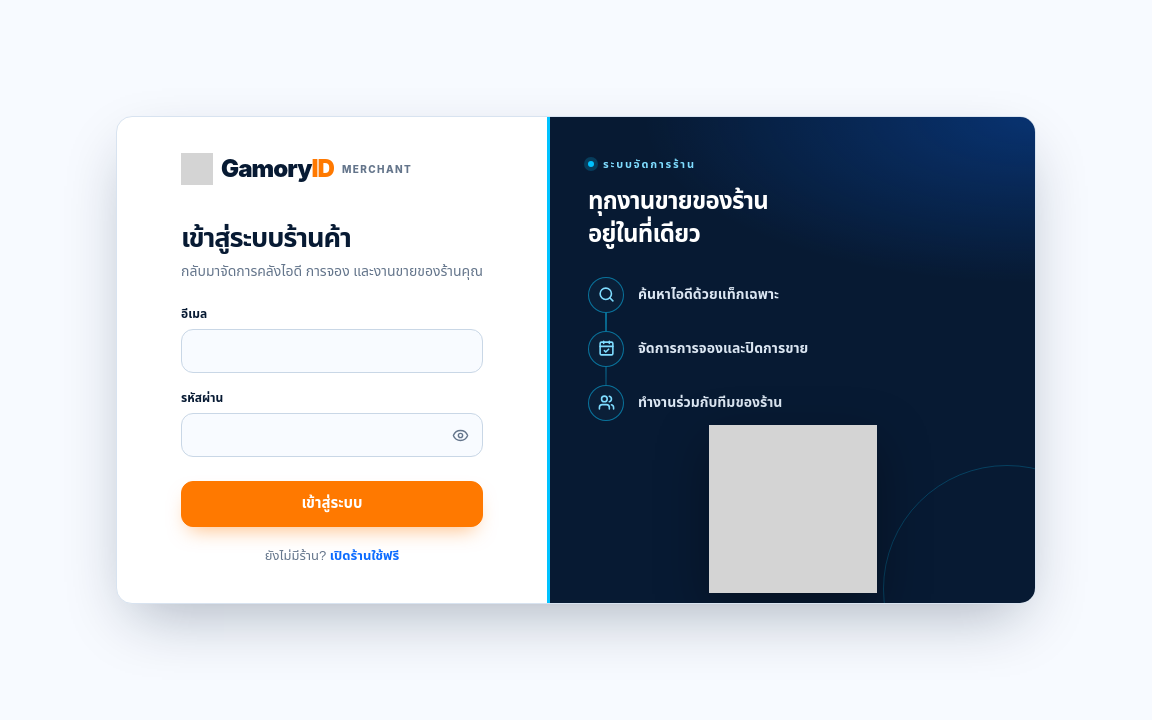
Scenario: merchant login › แจ้งช่องที่ต้องแก้และโฟกัสอีเมลก่อนส่งข้อมูล
Click the button "เข้าสู่ระบบ" at (332, 504), box [181,481,483,527]
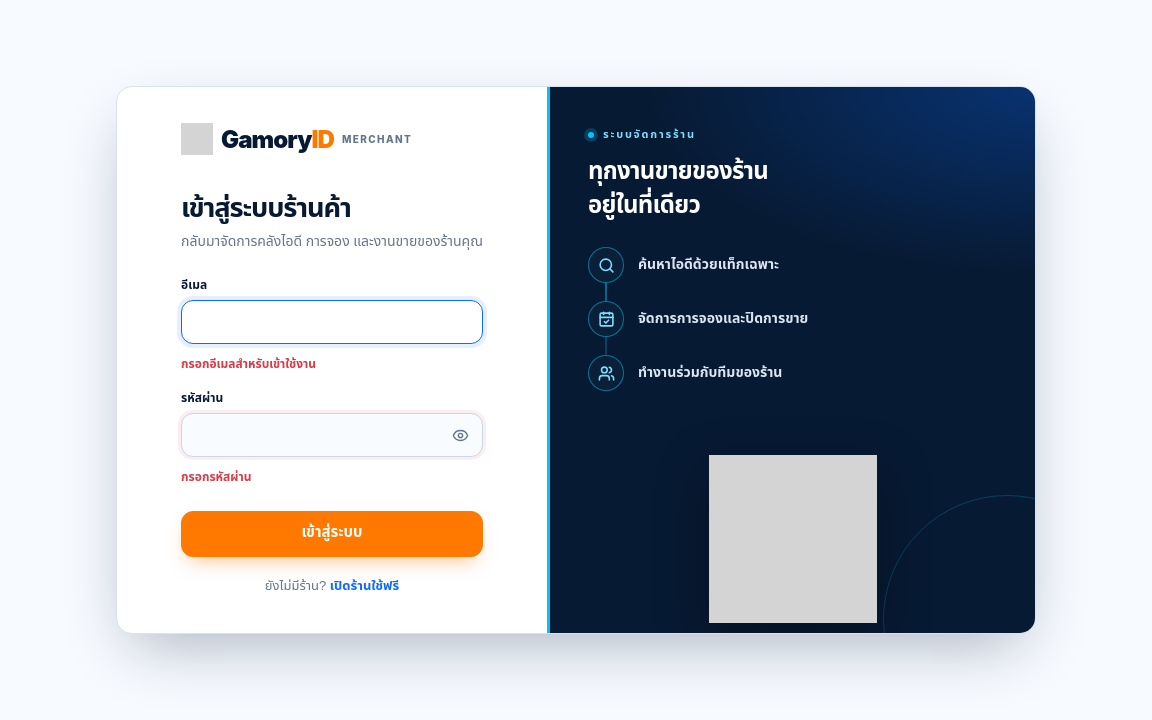
Check: the text "กรอกอีเมลสำหรับเข้าใช้งาน" is shown, box [181,355,316,373]
Check: the text "กรอกรหัสผ่าน" is shown, box [181,468,252,486]
